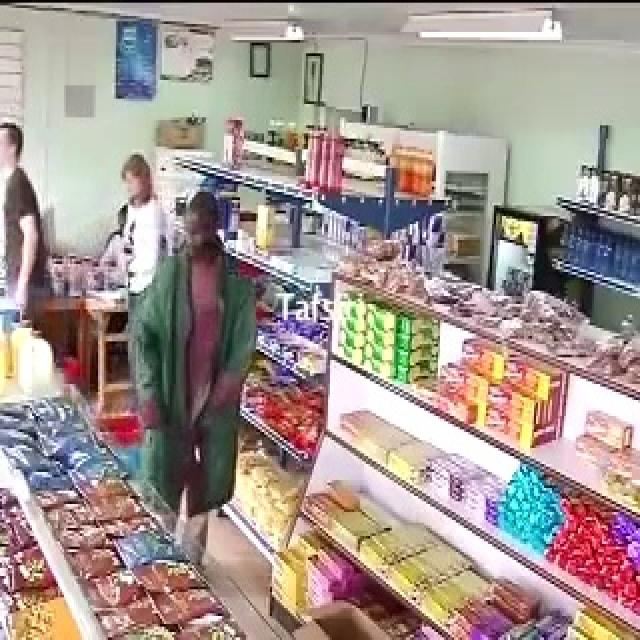normal: (99, 178, 239, 502), (0, 98, 77, 362), (103, 139, 165, 259)
